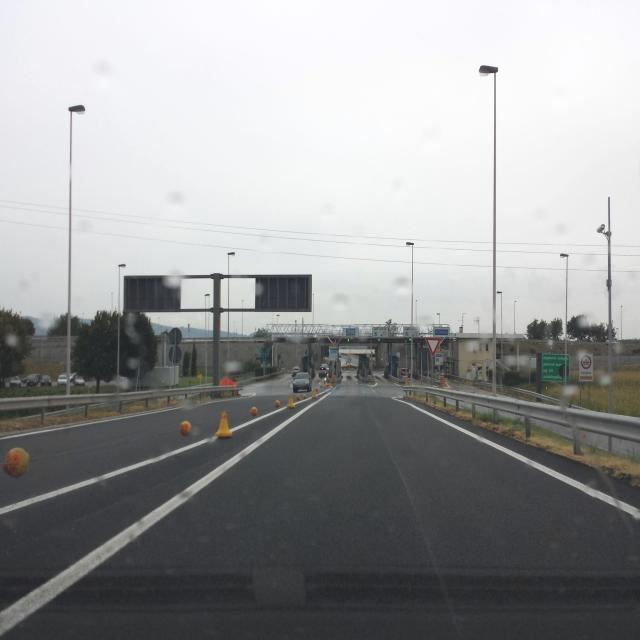car: (23, 373, 53, 389), (292, 371, 312, 393), (56, 372, 82, 387), (4, 375, 23, 389)
